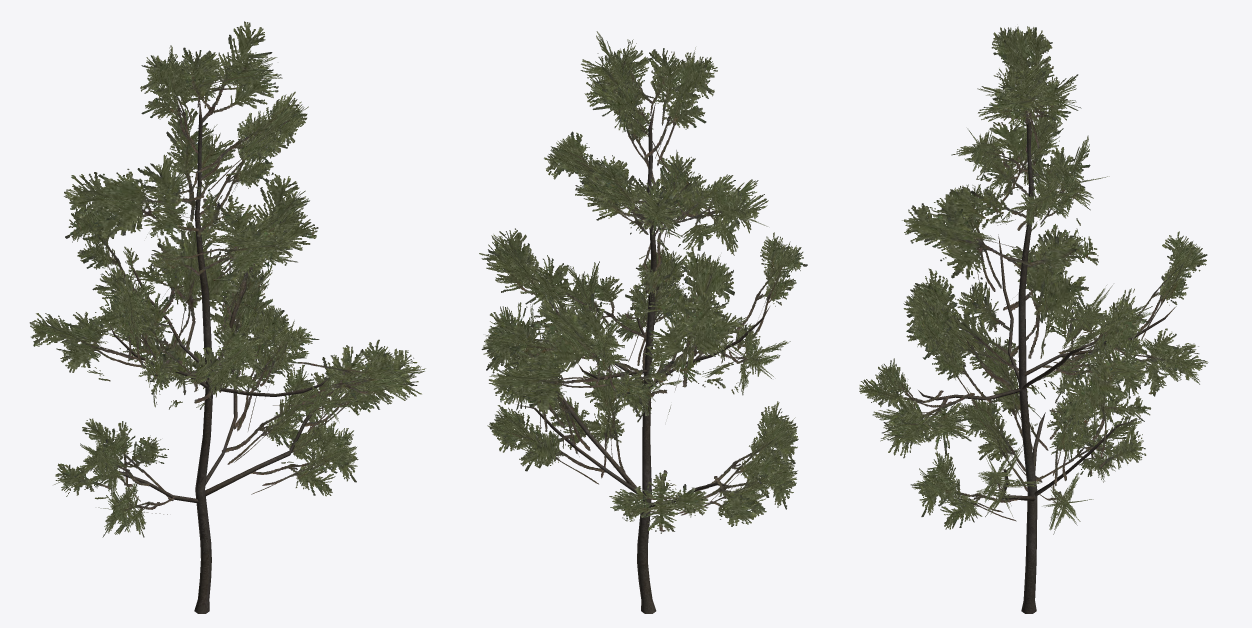
Rendered from pine-sapling-small-mobile.glb.
3 renders of one model, left to right at view 1: azimuth 30°, elevation 25°; view 2: azimuth 150°, elevation 25°; view 3: azimuth 270°, elevation 25°, orthographic.
Visible parts, largest first — view 1: pine-needle-branches, pine-trunk; view 2: pine-needle-branches, pine-trunk; view 3: pine-needle-branches, pine-trunk.
Boxes of the visible parts, x1,y1,x2,y2 form: pine-needle-branches: [29, 21, 425, 537]; pine-trunk: [105, 99, 337, 613]; pine-needle-branches: [479, 31, 807, 533]; pine-trunk: [519, 104, 769, 613]; pine-needle-branches: [859, 26, 1208, 534]; pine-trunk: [918, 111, 1176, 613].
Bounding box in the file's own units: 0.8588 × 1.32 × 0.8052.
Materials: 2 (2 with a texture image).
